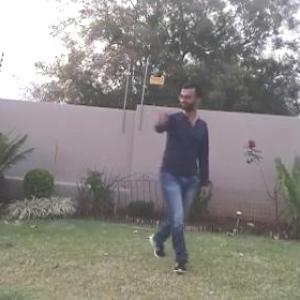takeoff-hand: (151, 104, 175, 135)
